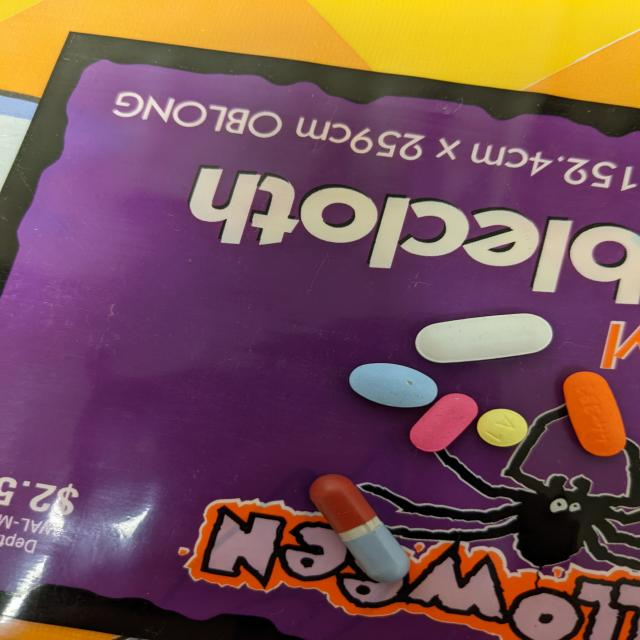non-organic waste: (307, 472, 412, 584), (413, 312, 554, 364), (562, 370, 628, 457), (408, 392, 479, 453), (348, 362, 438, 409), (475, 408, 529, 448)
